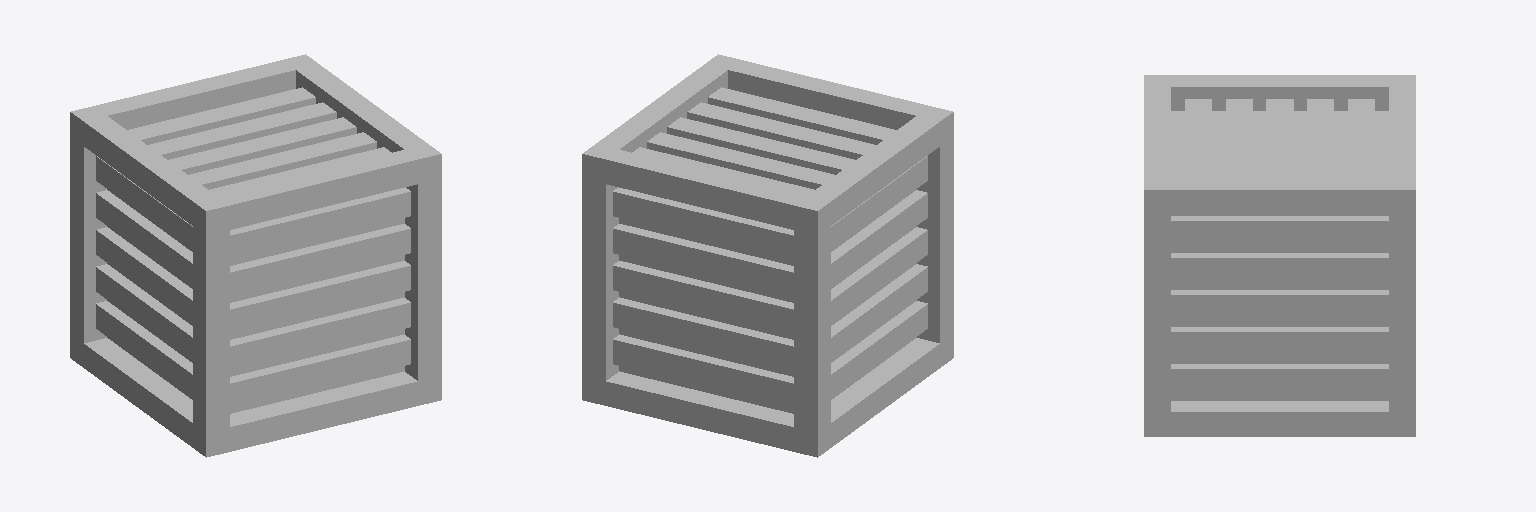
Rendered from Wooden Crate.obj.
The picture shows the model from 3 angles: view 1: azimuth 30°, elevation 25°; view 2: azimuth 150°, elevation 25°; view 3: azimuth 270°, elevation 25°; orthographic projection.
Visible parts, largest first — view 1: object 1; view 2: object 1; view 3: object 1.
Part boxes in pixels (x1,y1,x2,y2): object 1: (70,54,441,457); object 1: (582,54,953,457); object 1: (1144,75,1415,436).
Bounding box in the file's own units: 2 × 2 × 2.